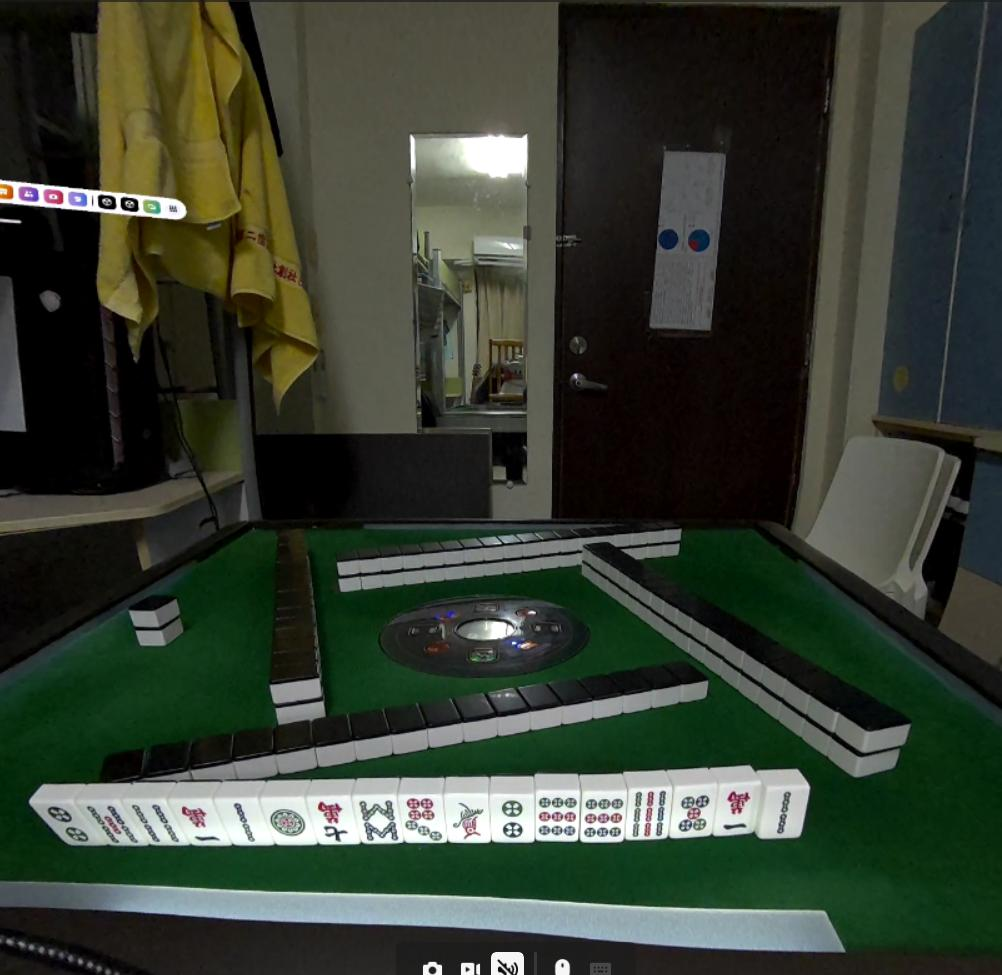mahjong: (755, 775, 814, 838), (393, 792, 455, 851), (627, 780, 676, 854), (303, 792, 366, 848), (488, 789, 544, 850), (253, 794, 311, 850), (125, 792, 179, 851), (28, 797, 91, 846), (577, 785, 626, 847), (170, 794, 224, 847), (532, 785, 582, 842), (217, 794, 266, 847), (350, 792, 399, 844), (447, 785, 490, 844), (90, 789, 131, 850), (677, 782, 719, 840), (725, 785, 760, 832)
